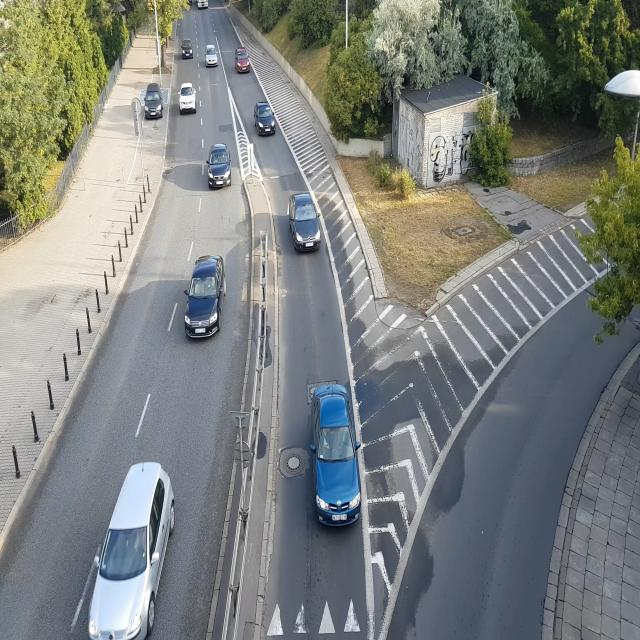car: (79, 441, 183, 640), (309, 384, 364, 528), (183, 258, 222, 338), (290, 192, 322, 252), (207, 144, 232, 188), (254, 103, 277, 136), (143, 88, 165, 119), (179, 83, 198, 114), (234, 50, 250, 74), (207, 43, 220, 66), (182, 41, 196, 60)
